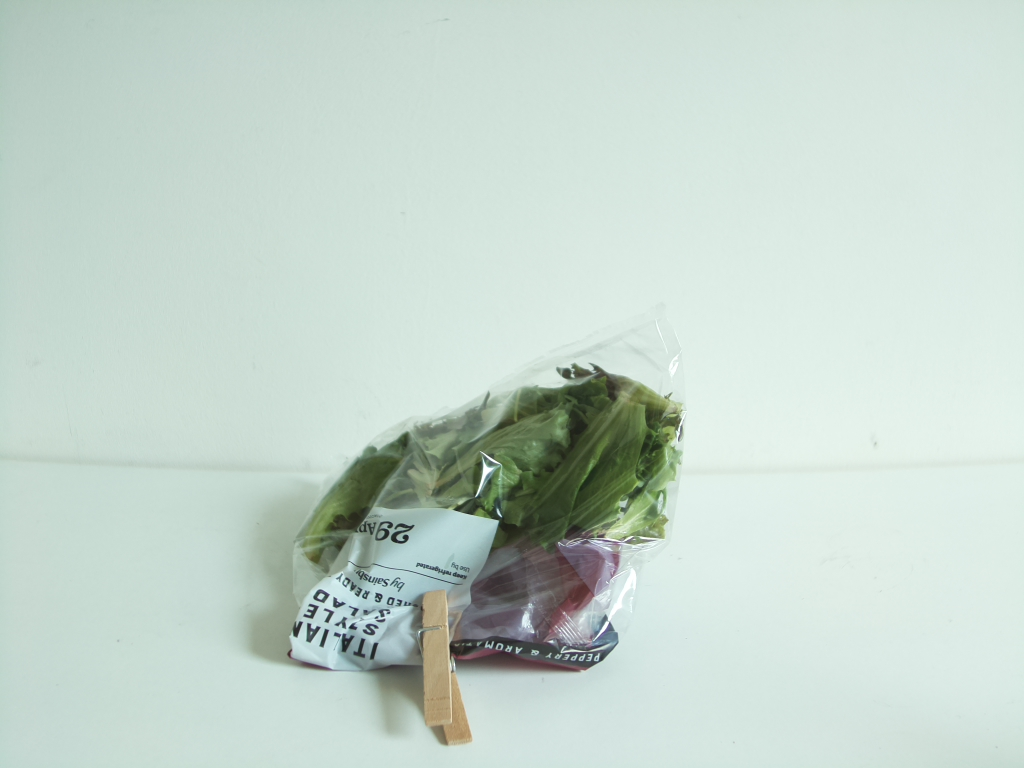salad: (298, 366, 682, 663)
